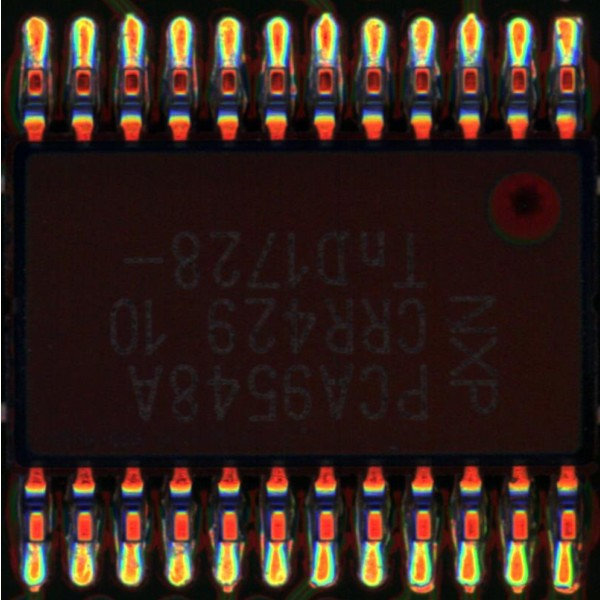Bad_podu: (463, 529, 476, 561), (318, 531, 331, 560), (222, 529, 234, 560), (561, 528, 572, 560), (30, 530, 41, 559), (271, 531, 282, 560), (77, 53, 89, 79), (513, 528, 523, 559), (126, 531, 137, 558), (77, 534, 87, 556)
